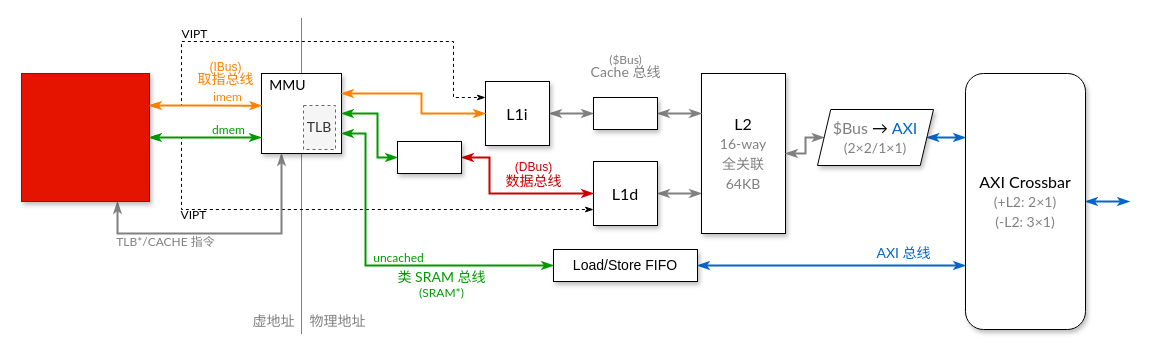
Some shapes in this 1157 by 354 pixel diagram are drawn without their labels. The shapes that lost their labels are listed below. From the top down, each one's centre as x and y in pixels, then its label:
point (626, 114): Prefetch
point (86, 138): 非常大的 CPU
point (430, 158): S-Pipeline
